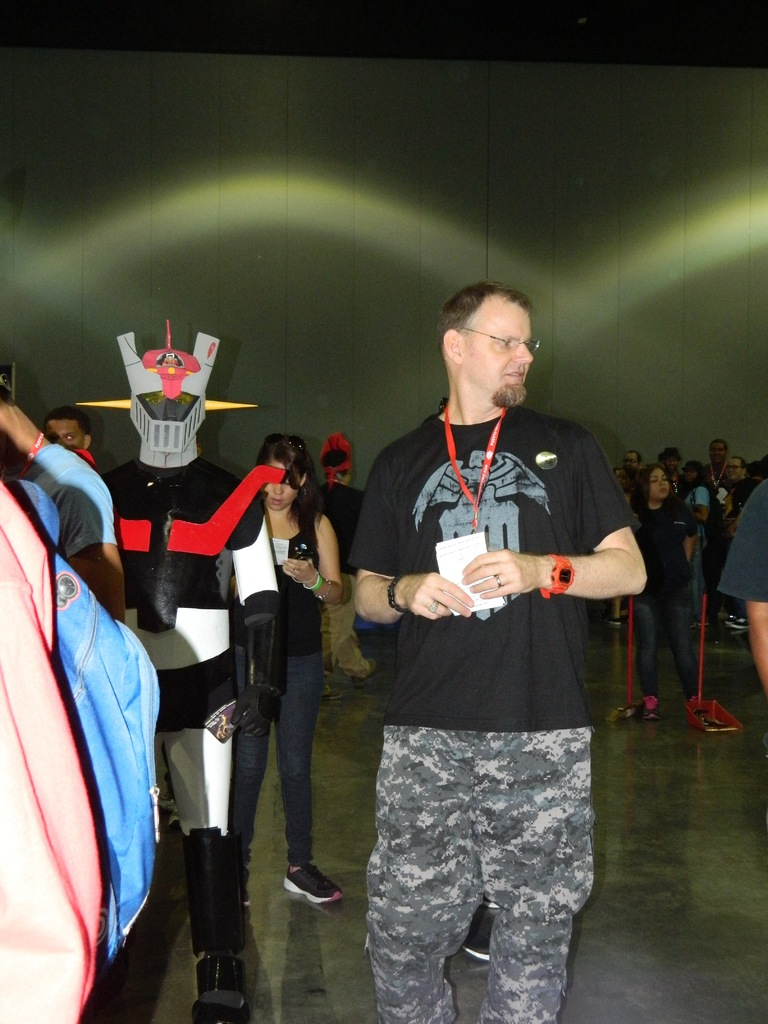Footwear: (193, 954, 253, 1023), (276, 860, 342, 910), (446, 914, 486, 970), (616, 689, 661, 718), (687, 687, 696, 724)
